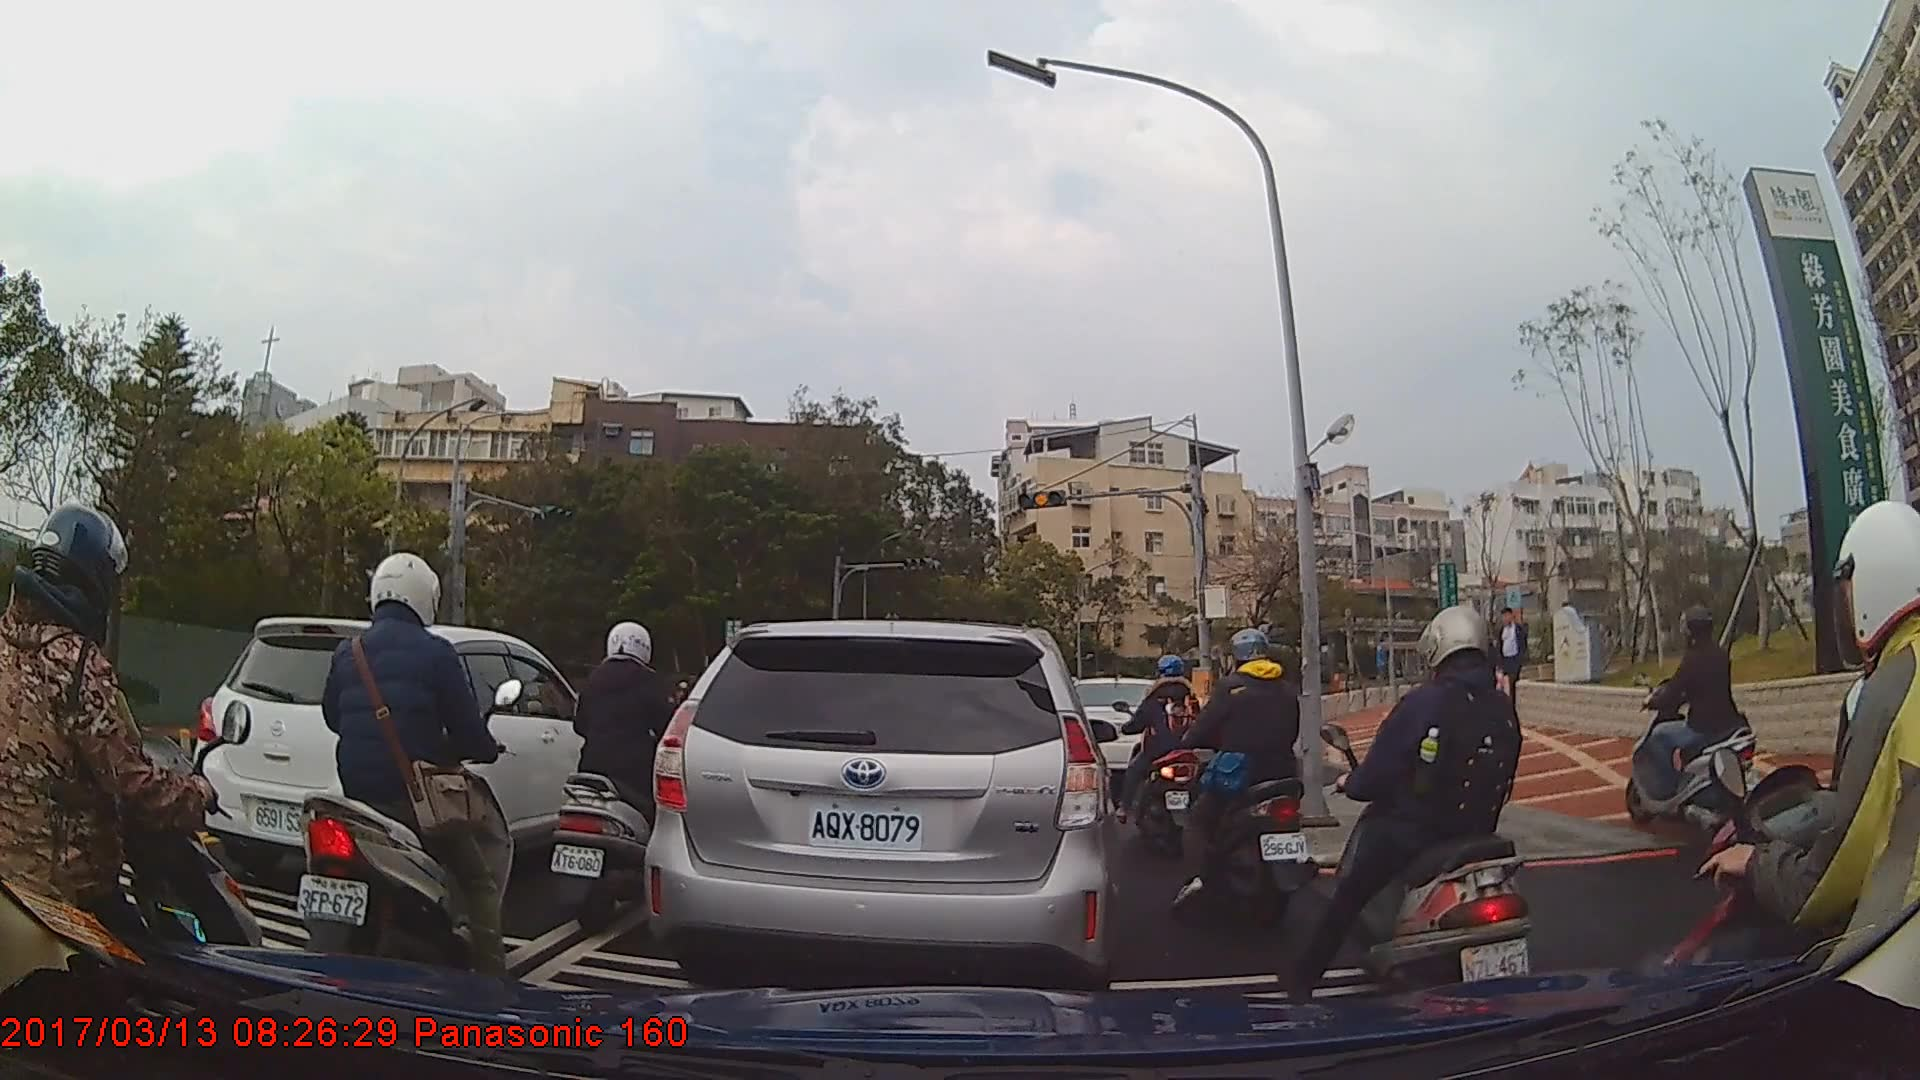pedestrian: (1493, 608, 1533, 718), (1468, 624, 1501, 717)
rider: (1653, 499, 1920, 1080), (1, 499, 264, 1057), (299, 545, 526, 1000), (1319, 603, 1545, 1024), (546, 623, 710, 937), (1171, 627, 1314, 928), (1629, 610, 1754, 842), (1115, 652, 1208, 858)
vehicle: (641, 618, 1116, 990), (194, 616, 625, 891), (1058, 675, 1167, 784)
